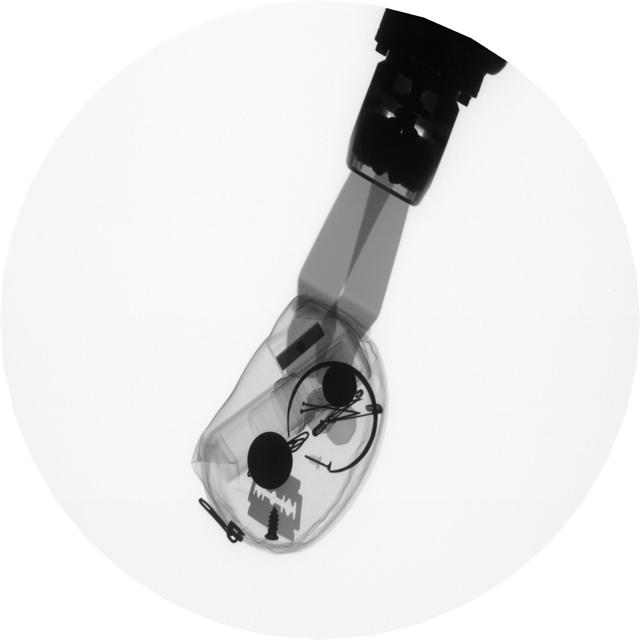razor: (246, 469, 308, 546)
